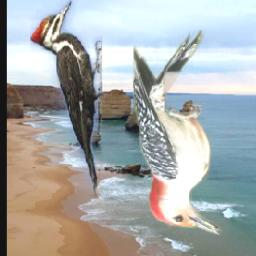Woodpecker: (133, 31, 227, 236), (30, 1, 102, 201)
